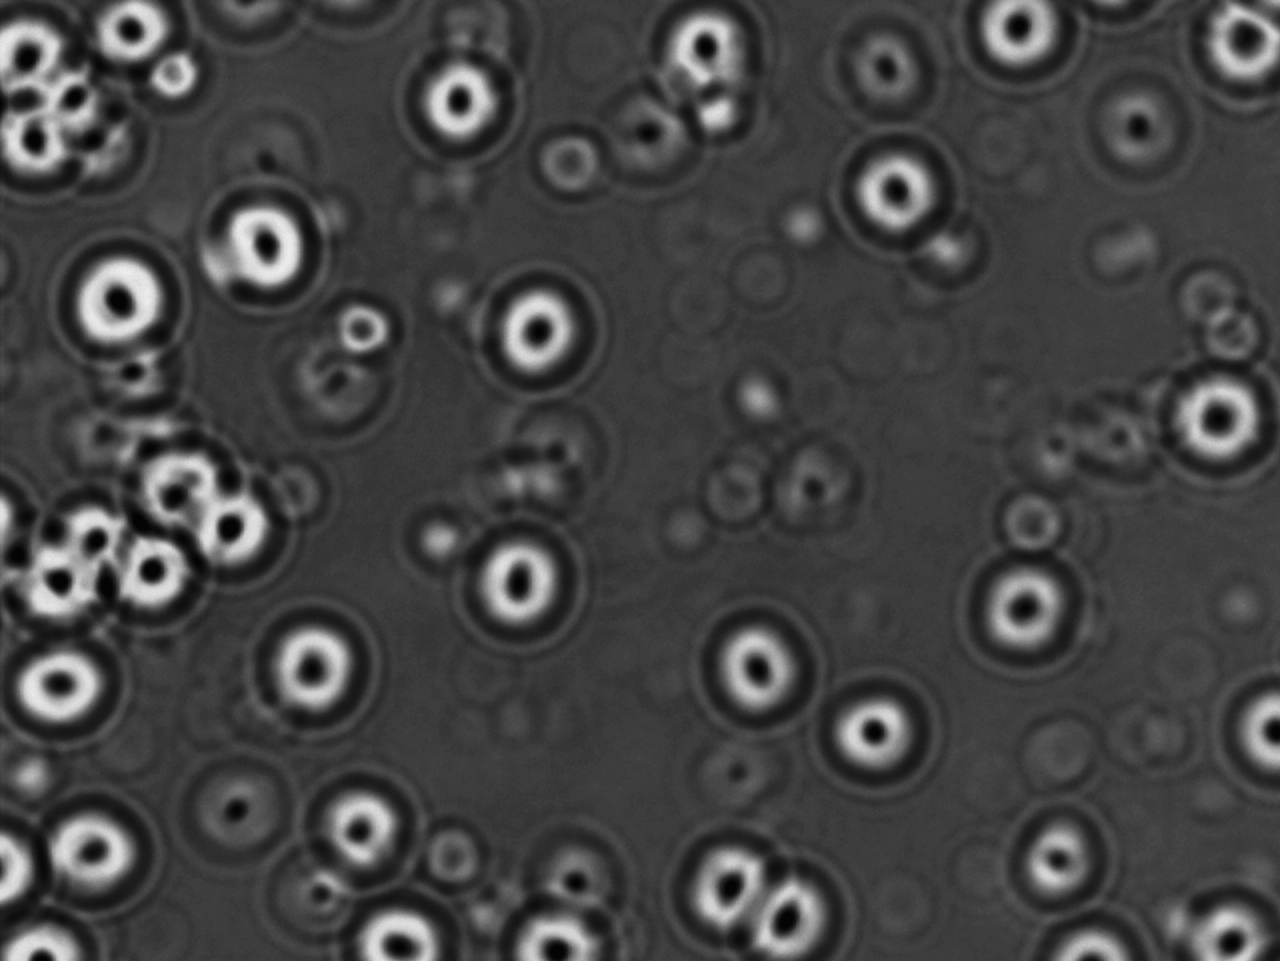depth:16: (958, 536, 1096, 677), (700, 598, 833, 735), (457, 513, 592, 647), (813, 659, 937, 795), (478, 270, 616, 393), (838, 132, 972, 257), (251, 603, 383, 729), (176, 468, 302, 594), (299, 765, 427, 881), (205, 192, 321, 316), (396, 43, 517, 159), (1165, 355, 1277, 479), (31, 791, 155, 902), (62, 242, 186, 352), (676, 826, 796, 935), (101, 521, 208, 631), (7, 631, 123, 732), (746, 869, 852, 959), (343, 888, 468, 961), (1195, 0, 1280, 107), (1220, 672, 1280, 793)
